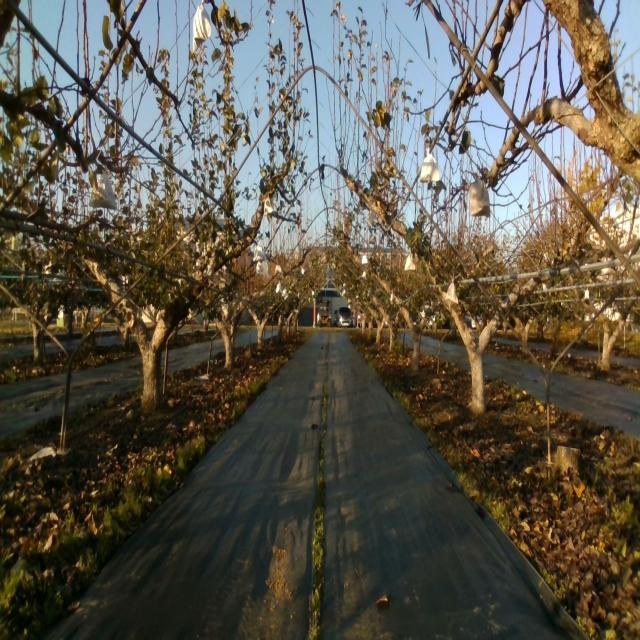pearbags: (87, 162, 118, 210), (192, 0, 211, 57), (469, 178, 492, 218), (420, 152, 439, 182), (252, 240, 267, 264), (202, 259, 214, 283), (446, 280, 458, 304), (262, 196, 274, 217), (404, 253, 416, 270)
